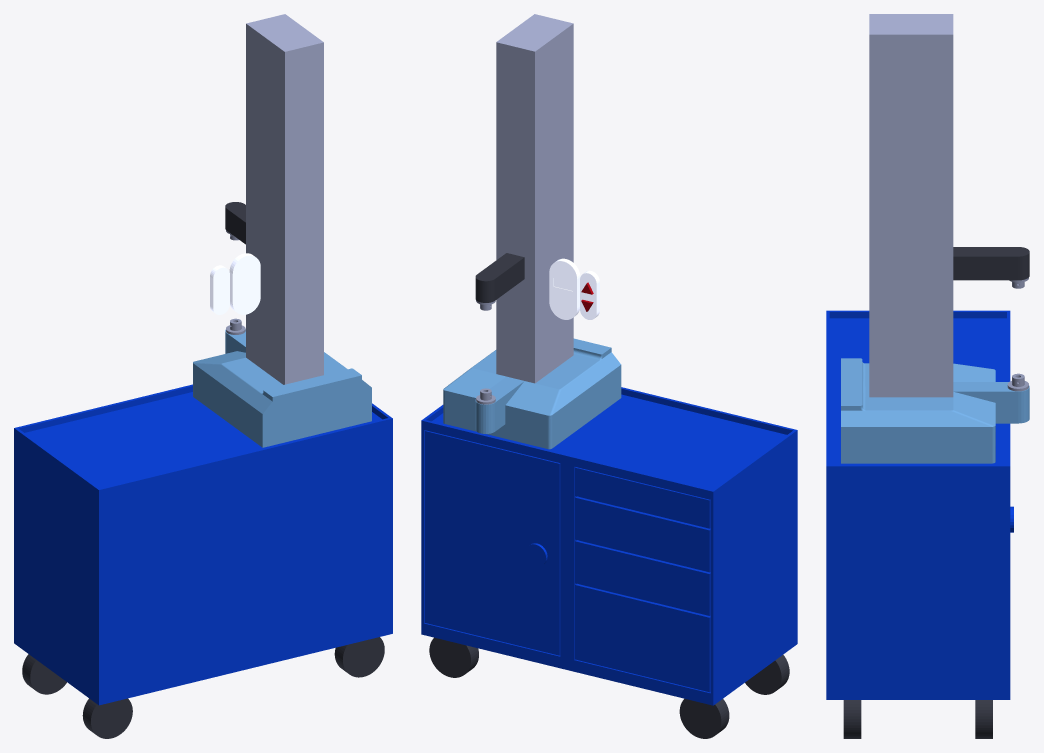
File: Shermadzu1.gltf
3 views of the same model, side by side, from view 1: azimuth 30°, elevation 25°; view 2: azimuth 150°, elevation 25°; view 3: azimuth 270°, elevation 25° (orthographic). The views are drawn at different scales.
Parts seen in each view (by area): view 1: TrolleyChassis, Pillar, Base, ReadOutInterface, Wheel3, Wheel4, Wheel 2, UDInterface, MoveArm; view 2: TrolleyChassis, Trolley Door, Pillar, Base, Drawer 4, Drawer 2, Drawer 3, Drawer 1, MoveArm, ReadOutInterface, Wheel 2, Wheel1 (+2 smaller); view 3: TrolleyChassis, Pillar, Base, MoveArm, Wheel4, Wheel1.
Part boxes in pixels (left/top/right/bottom): TrolleyChassis: left=14, top=384, right=392, bottom=705; Pillar: left=246, top=14, right=323, bottom=384; Base: left=193, top=329, right=371, bottom=447; ReadOutInterface: left=229, top=253, right=260, bottom=314; Wheel3: left=82, top=698, right=132, bottom=738; Wheel4: left=334, top=637, right=384, bottom=677; Wheel 2: left=22, top=654, right=66, bottom=694; UDInterface: left=210, top=265, right=229, bottom=314; MoveArm: left=225, top=202, right=245, bottom=244; TrolleyChassis: left=421, top=387, right=797, bottom=705; Trolley Door: left=425, top=430, right=560, bottom=655; Pillar: left=496, top=14, right=573, bottom=383; Base: left=443, top=338, right=621, bottom=449; Drawer 4: left=575, top=583, right=710, bottom=692; Drawer 2: left=575, top=496, right=710, bottom=572; Drawer 3: left=575, top=540, right=710, bottom=615; Drawer 1: left=575, top=467, right=710, bottom=528; MoveArm: left=475, top=253, right=524, bottom=302; ReadOutInterface: left=549, top=258, right=580, bottom=319; Wheel 2: left=679, top=698, right=729, bottom=738; Wheel1: left=429, top=637, right=478, bottom=677; TrolleyChassis: left=826, top=310, right=1010, bottom=699; Pillar: left=869, top=14, right=953, bottom=397; Base: left=841, top=358, right=1029, bottom=463; MoveArm: left=953, top=247, right=1029, bottom=280; Wheel4: left=843, top=700, right=861, bottom=738; Wheel1: left=975, top=700, right=992, bottom=738.
Size of the model in its own units: 1.05 by 2.16 by 0.58.
